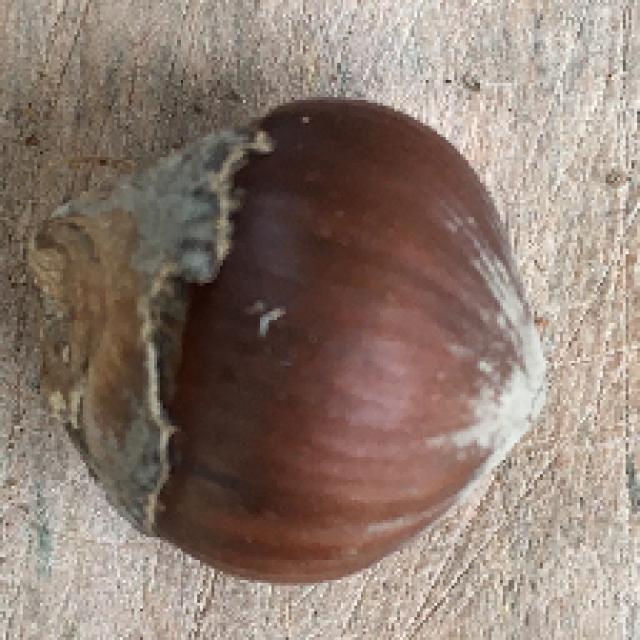damagedHazelnut: (24, 88, 560, 589)
